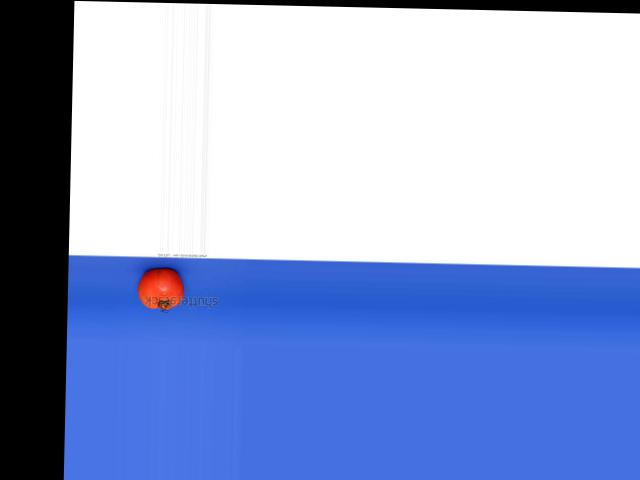tomato: (136, 267, 183, 309)
